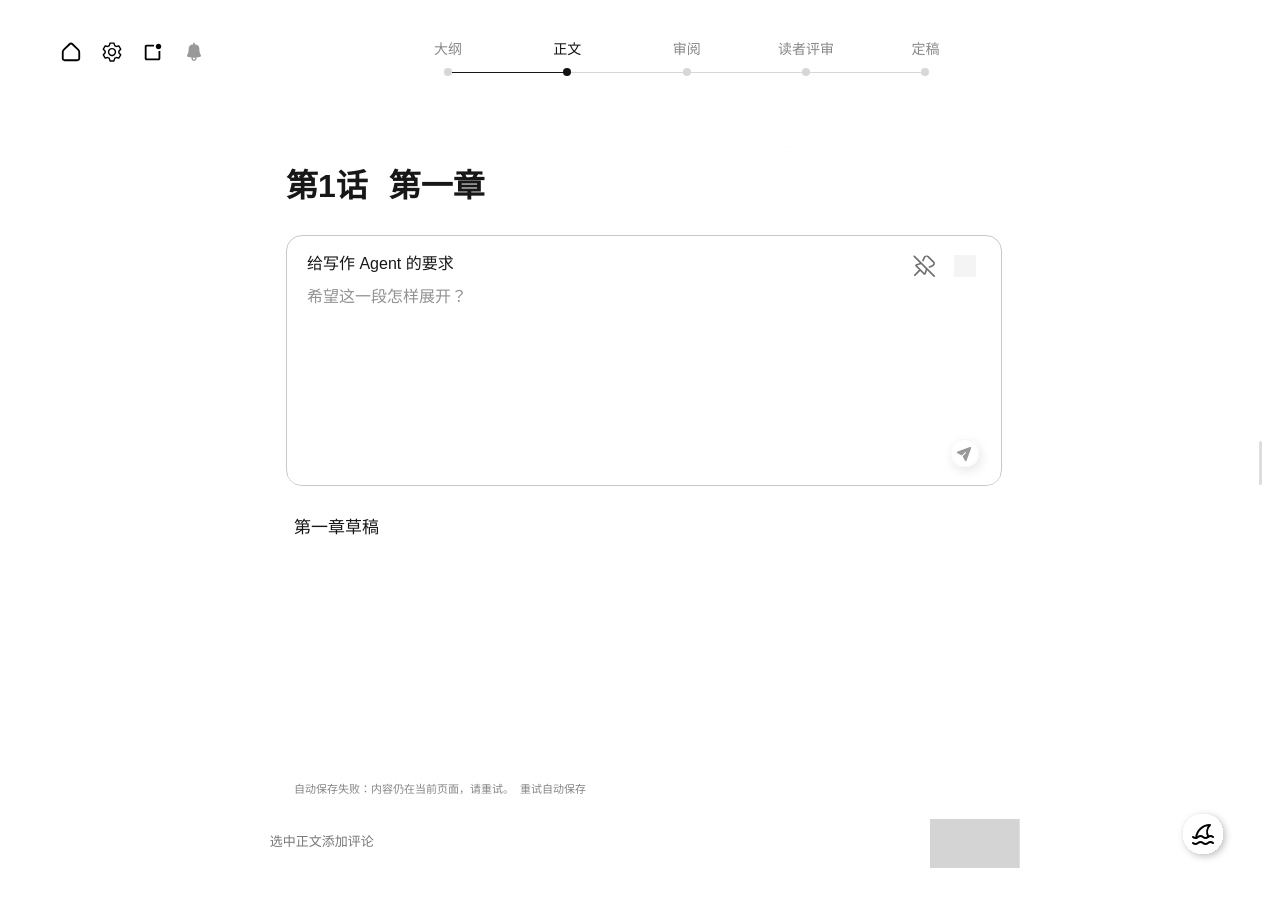
Test: Studio Assistant › initializes real conversation and sends bounded messages with tool badges
The width and height of the screenshot is (1280, 900).
Click the button named "Gura" at (1203, 834), box 1183,814 -> 1223,854
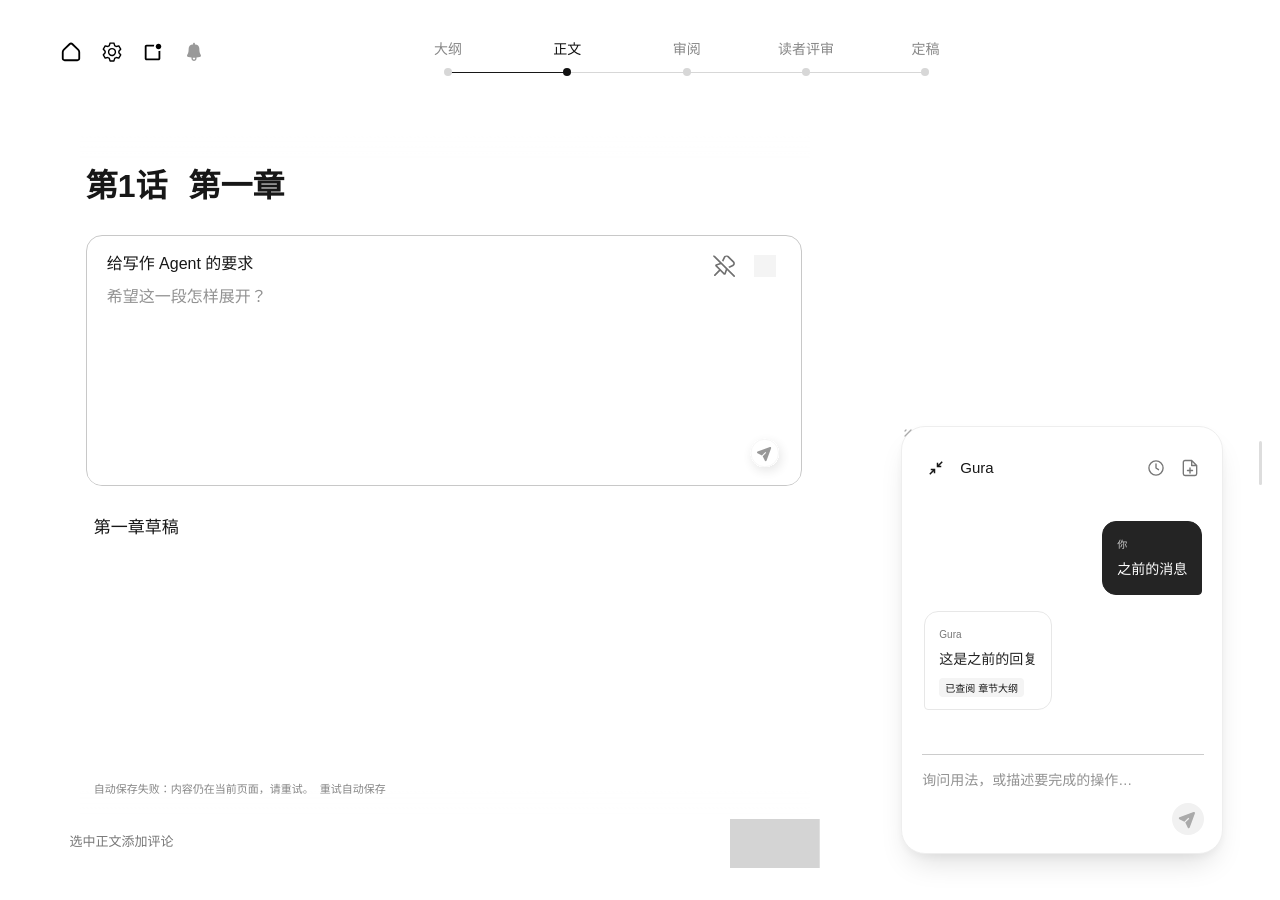
Expected: the text "之前的消息" is shown, 1117,556 -> 1187,582
Expected: the text "这是之前的回复" is shown, 939,647 -> 1037,672
Expected: the text "已查阅 章节大纲" is shown, 939,678 -> 1024,697
Type "本章的大纲是什么？" into the text box named "给 Gura 的消息" at (1063, 781), box 922,769 -> 1204,793
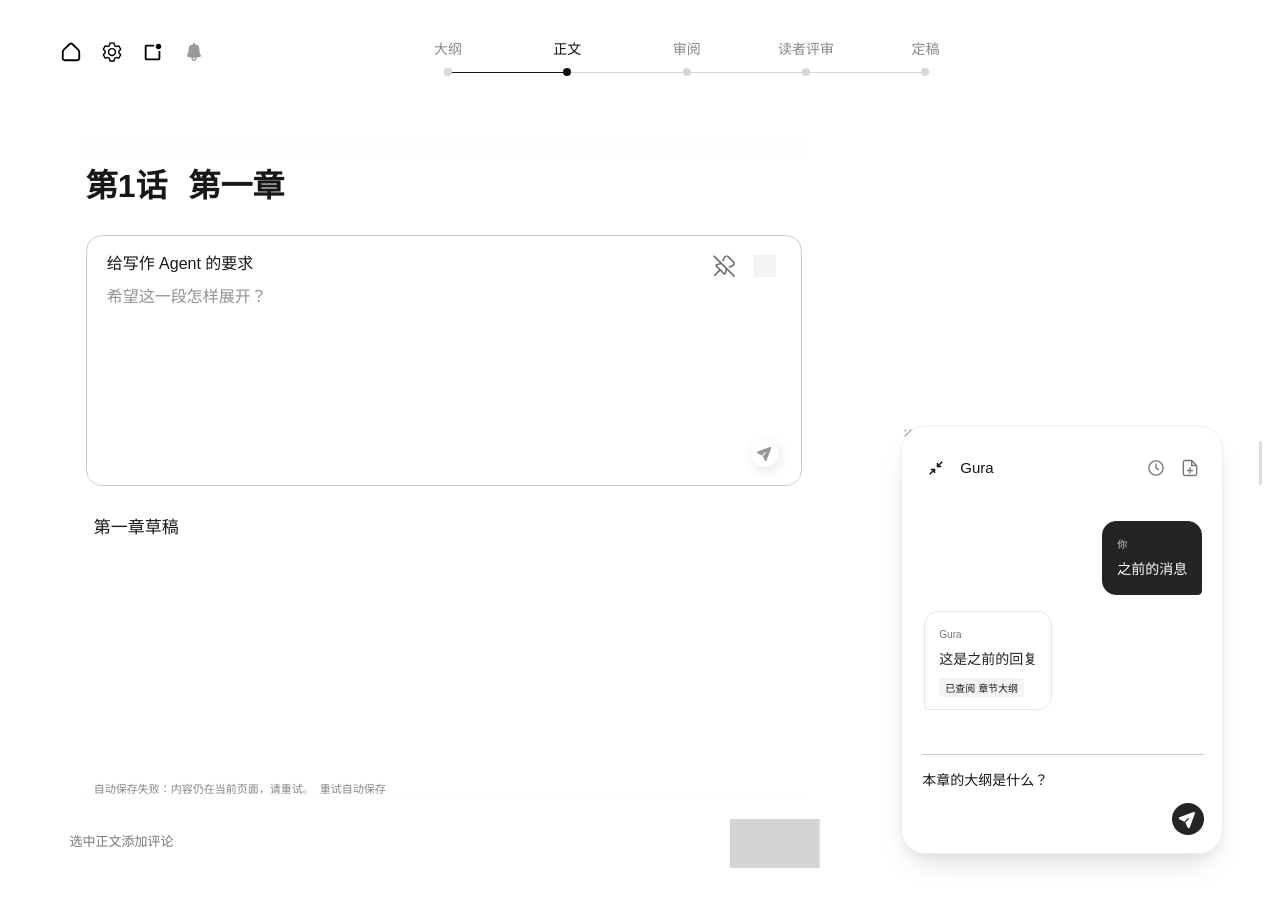
Click the button named "发送给 Gura" at (1188, 819), box 1172,803 -> 1204,835
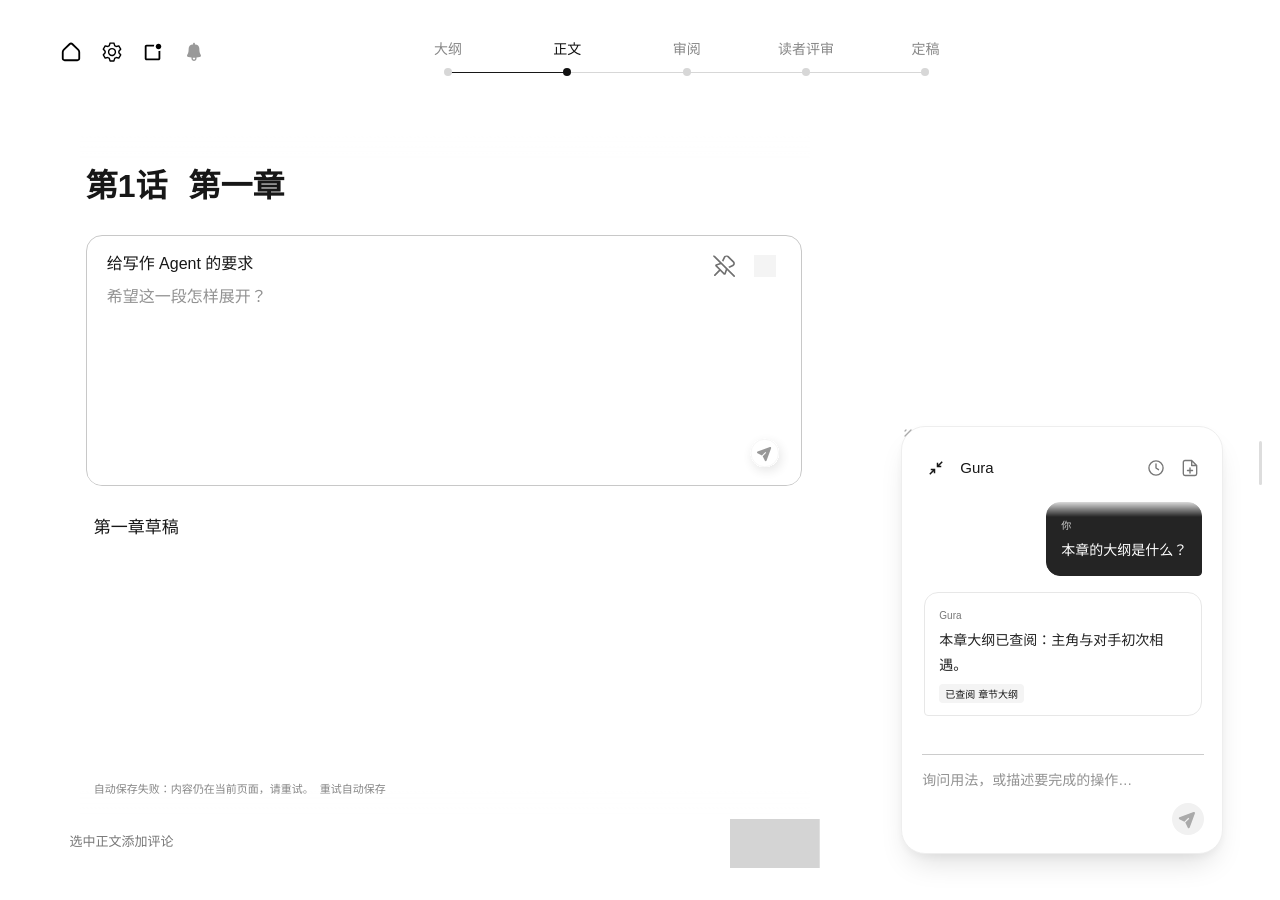
Expected: the text "本章大纲已查阅：主角与对手初次相遇。" is shown, 939,628 -> 1187,678
